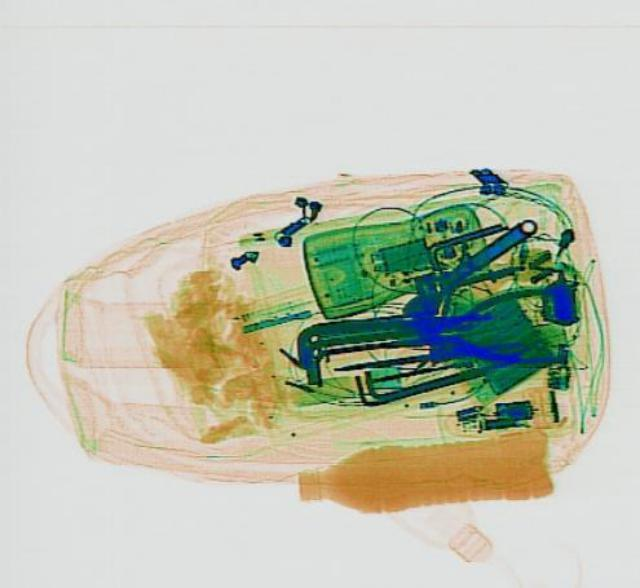Pliers: (408, 282, 566, 376)
Wrench: (386, 204, 546, 326)
